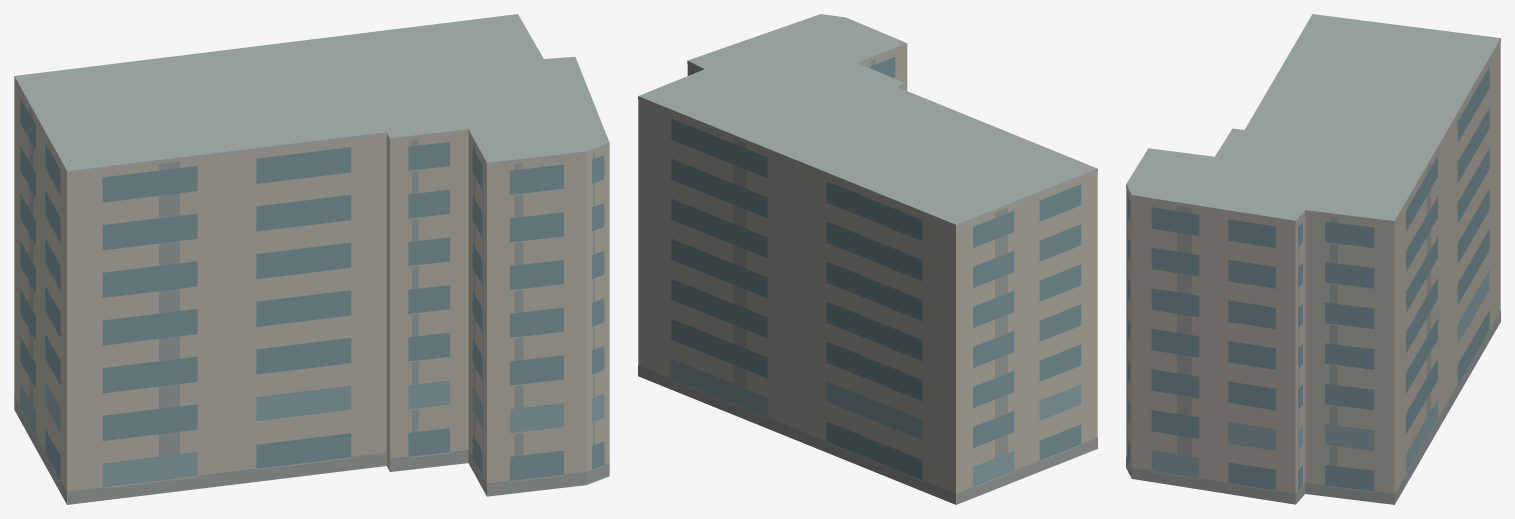
File: survey-upis-32535122.glb
3 renders of one model, left to right at view 1: azimuth 30°, elevation 25°; view 2: azimuth 150°, elevation 25°; view 3: azimuth 270°, elevation 25°, orthographic. The views are drawn at different scales.
Visible parts, largest first — view 1: survey-upis-32535122.tmp; view 2: survey-upis-32535122.tmp; view 3: survey-upis-32535122.tmp.
Part boxes in pixels (x1,y1,x2,y2): survey-upis-32535122.tmp: (14,14,609,504); survey-upis-32535122.tmp: (638,14,1097,504); survey-upis-32535122.tmp: (1126,14,1500,504).
Bounding box in the file's own units: 31.47 × 20.1 × 24.06.
